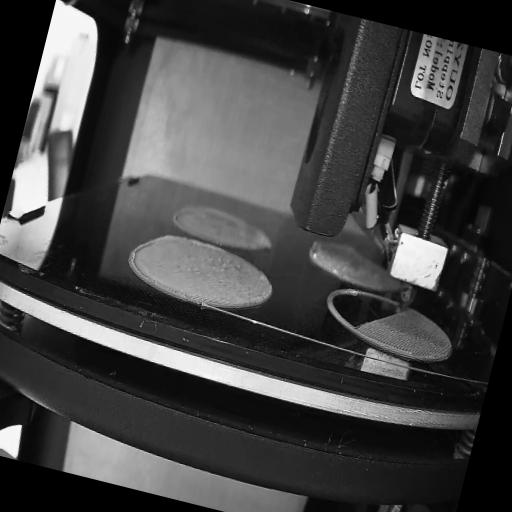over_extrusion: (124, 231, 154, 282)
